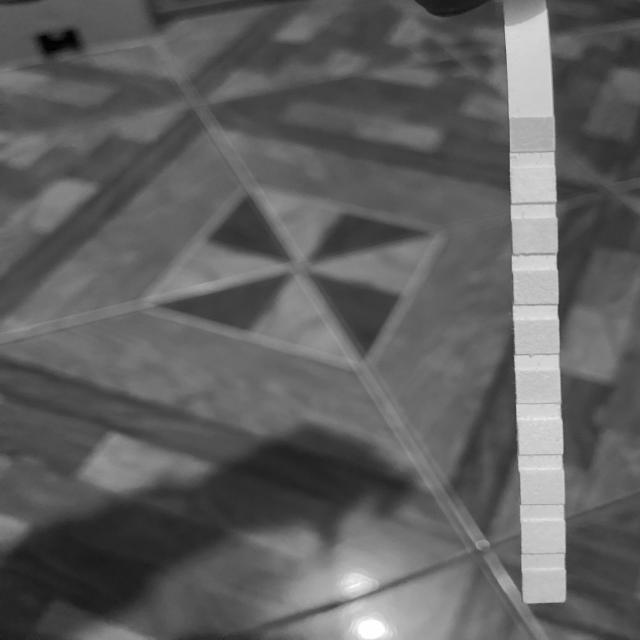Bilirubin: (511, 169, 556, 203)
Blood: (515, 320, 559, 352)
Glucose: (510, 118, 555, 151)
Ketone: (512, 220, 558, 254)
Leukocytes: (522, 571, 566, 603)
Nitrite: (521, 520, 566, 552)
Protein: (518, 421, 564, 453)
SpGravity: (514, 271, 559, 304)
Urobilinogen: (521, 471, 563, 504)
background: (0, 0, 640, 640)
pH: (516, 371, 561, 403)
strip: (506, 16, 566, 603)
